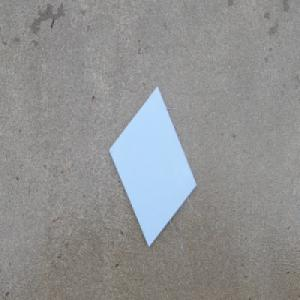PaintChip: (108, 83, 197, 249)
